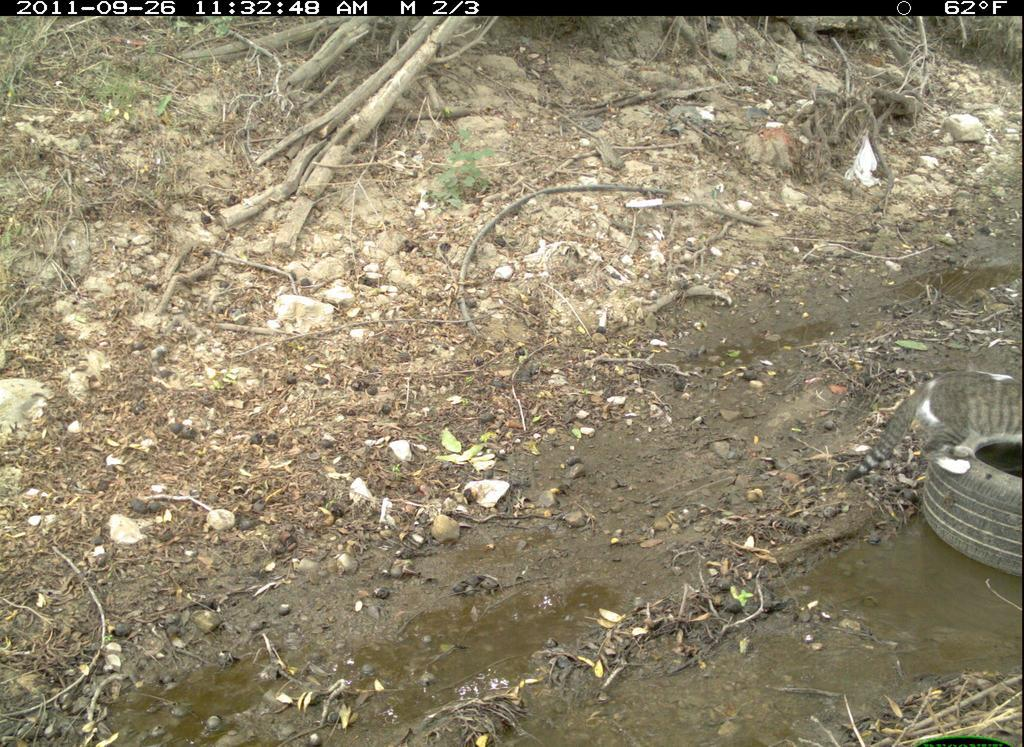cat: (847, 367, 1023, 489)
